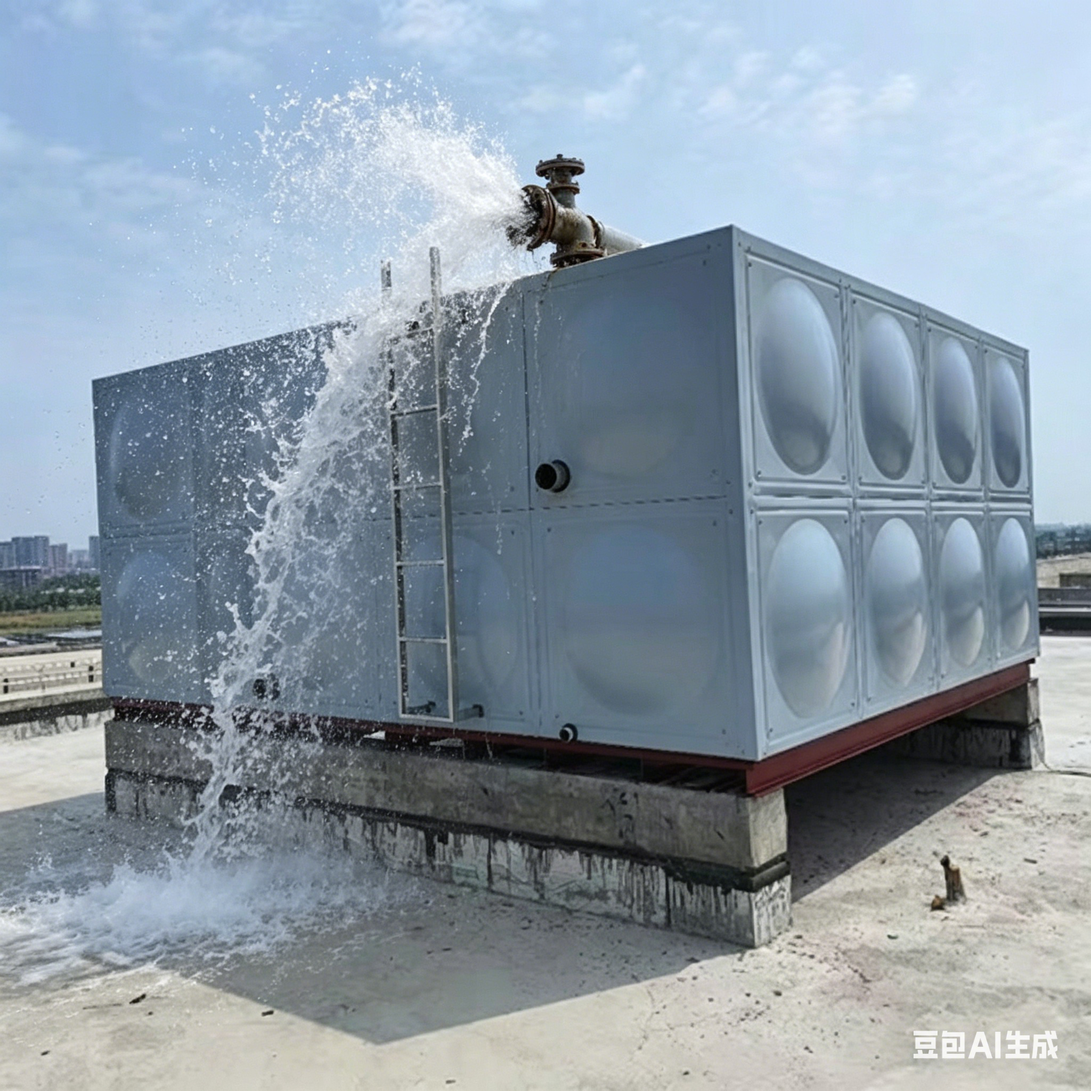Leakage: (191, 92, 533, 931), (10, 838, 187, 999)
